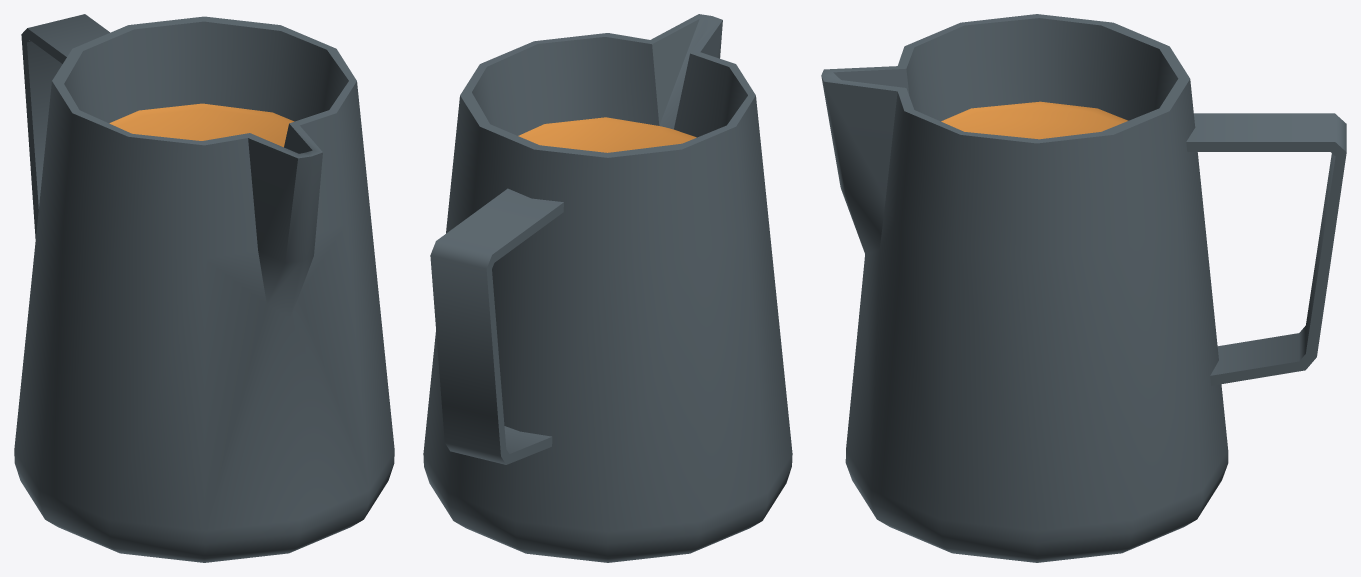
File: Cup-MetalCup.fbx
The picture shows the model from 3 angles, left to right: view 1: azimuth 30°, elevation 25°; view 2: azimuth 150°, elevation 25°; view 3: azimuth 270°, elevation 25°; orthographic projection. The views are drawn at different scales.
Parts seen in each view (by area): view 1: Cup-MetalCup; view 2: Cup-MetalCup; view 3: Cup-MetalCup.
Boxes of the visible parts, <box> form: Cup-MetalCup: <box>14,14,394,562</box>; Cup-MetalCup: <box>423,14,792,562</box>; Cup-MetalCup: <box>821,14,1346,562</box>.
Size of the model in its own units: 530 by 636 by 728.
